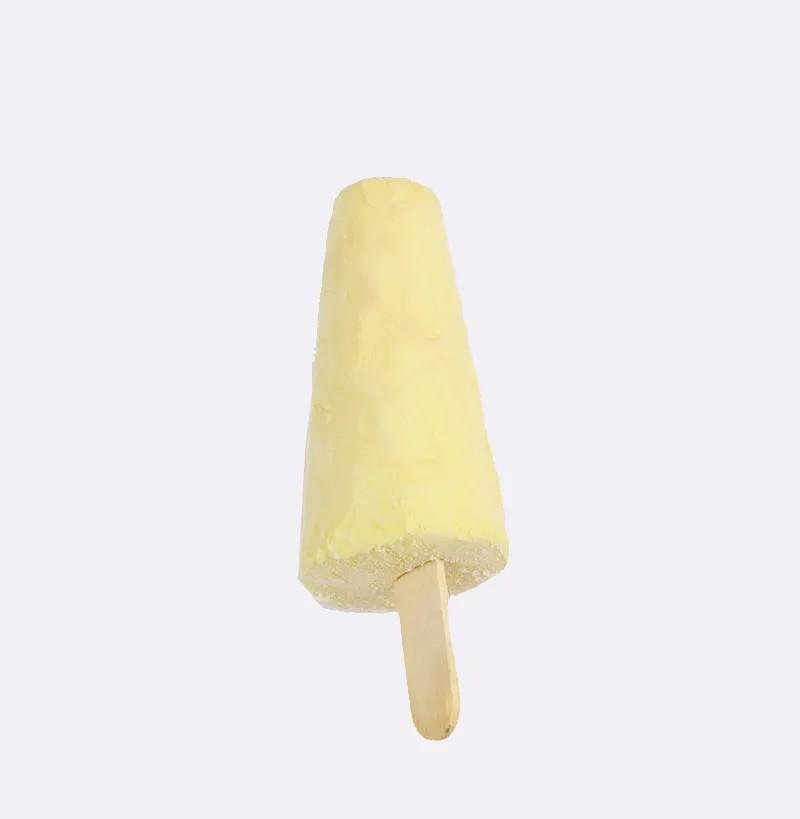Kulfi: (297, 177, 508, 616)
